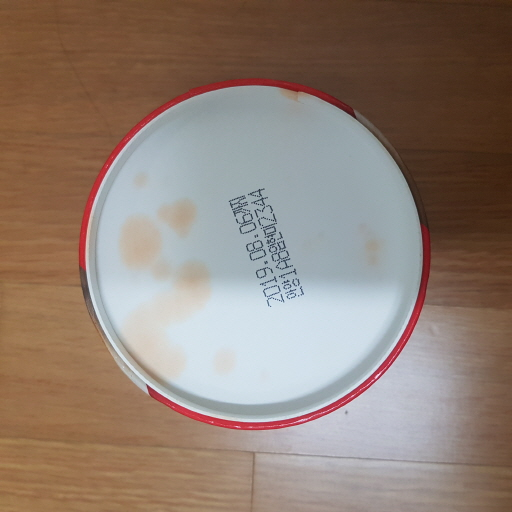Paper_1: (76, 82, 431, 429)
